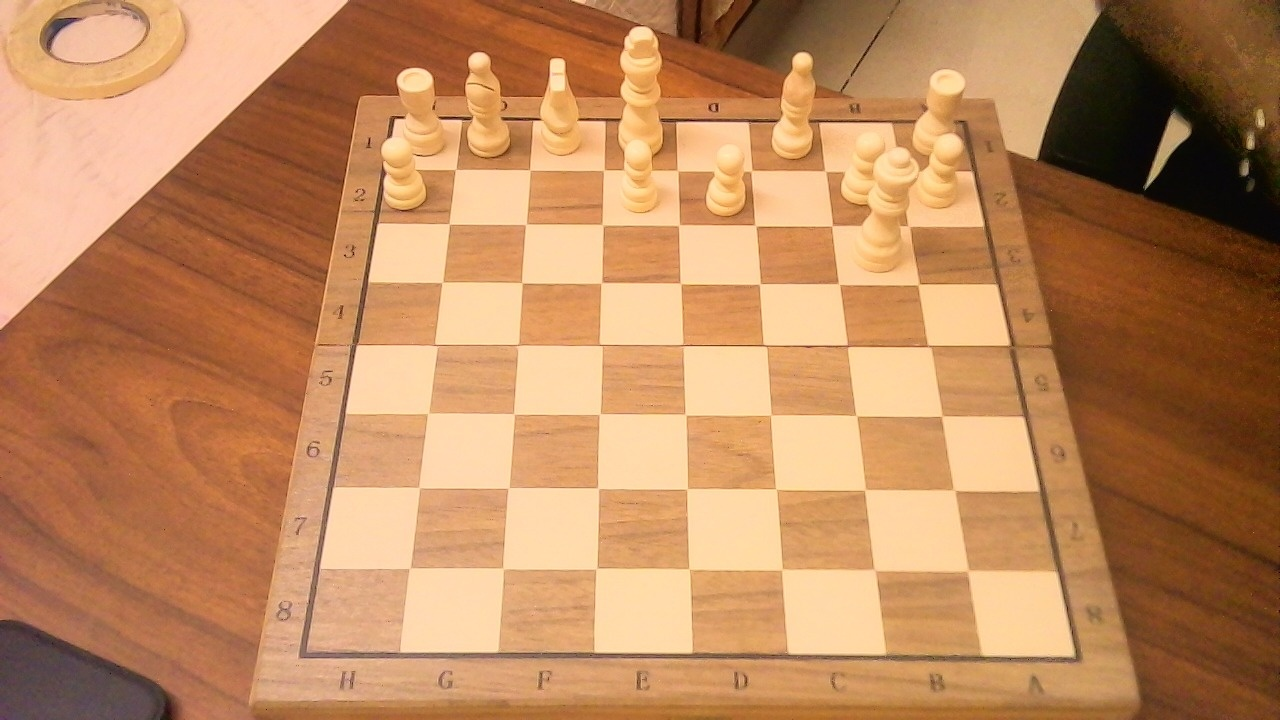B: (765, 41, 825, 163), (459, 41, 519, 161)
K: (610, 16, 673, 161)
N: (532, 47, 591, 160)
P: (834, 123, 896, 210), (610, 130, 666, 218), (377, 128, 433, 212), (698, 135, 753, 220), (920, 124, 972, 213)
Q: (846, 135, 925, 278)
R: (908, 59, 972, 159), (392, 57, 451, 160)
